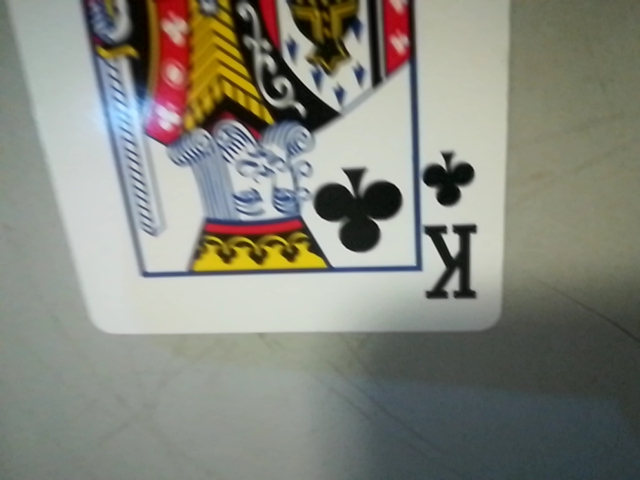mh k: (410, 143, 498, 318)
